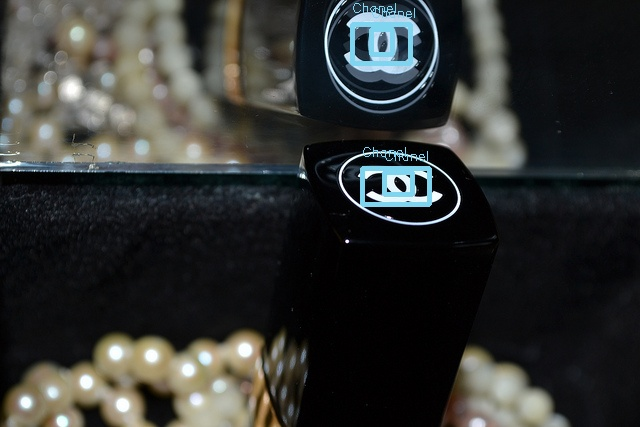Chanel: (334, 143, 465, 228), (344, 11, 420, 77)
